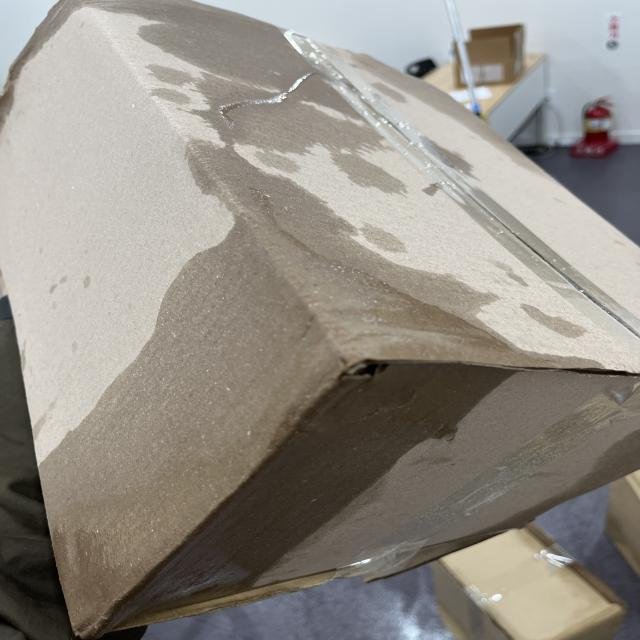wet: (141, 233, 517, 457), (123, 0, 375, 217), (31, 444, 272, 614)
